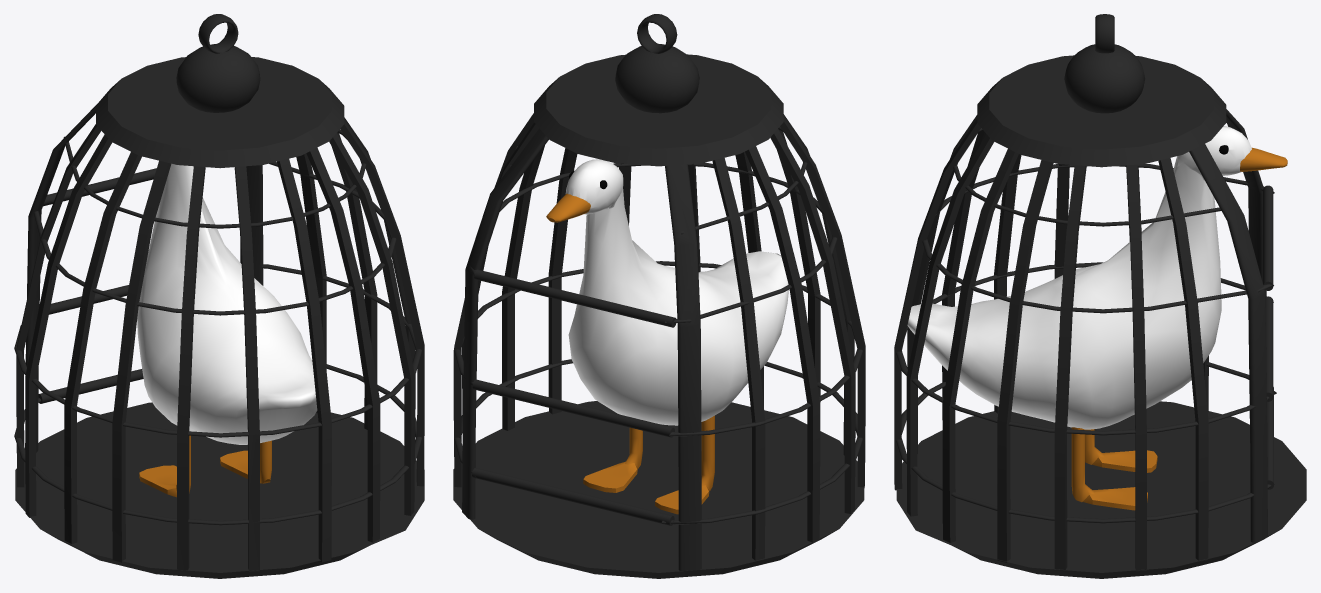
Rendered from GooseCage.fbx.
3 renders of one model, left to right at view 1: azimuth 30°, elevation 25°; view 2: azimuth 150°, elevation 25°; view 3: azimuth 270°, elevation 25°, orthographic.
Visible parts, largest first — view 1: Cage, Goose; view 2: Cage, Goose; view 3: Cage, Goose.
Part boxes in pixels (x1,y1,x2,y2): Cage: (14,14,424,578); Goose: (137,163,317,497); Cage: (453,14,865,578); Goose: (546,159,788,514); Cage: (894,14,1306,578); Goose: (901,126,1287,510).
Size of the model in its own units: 36.5 by 46.78 by 36.16.
